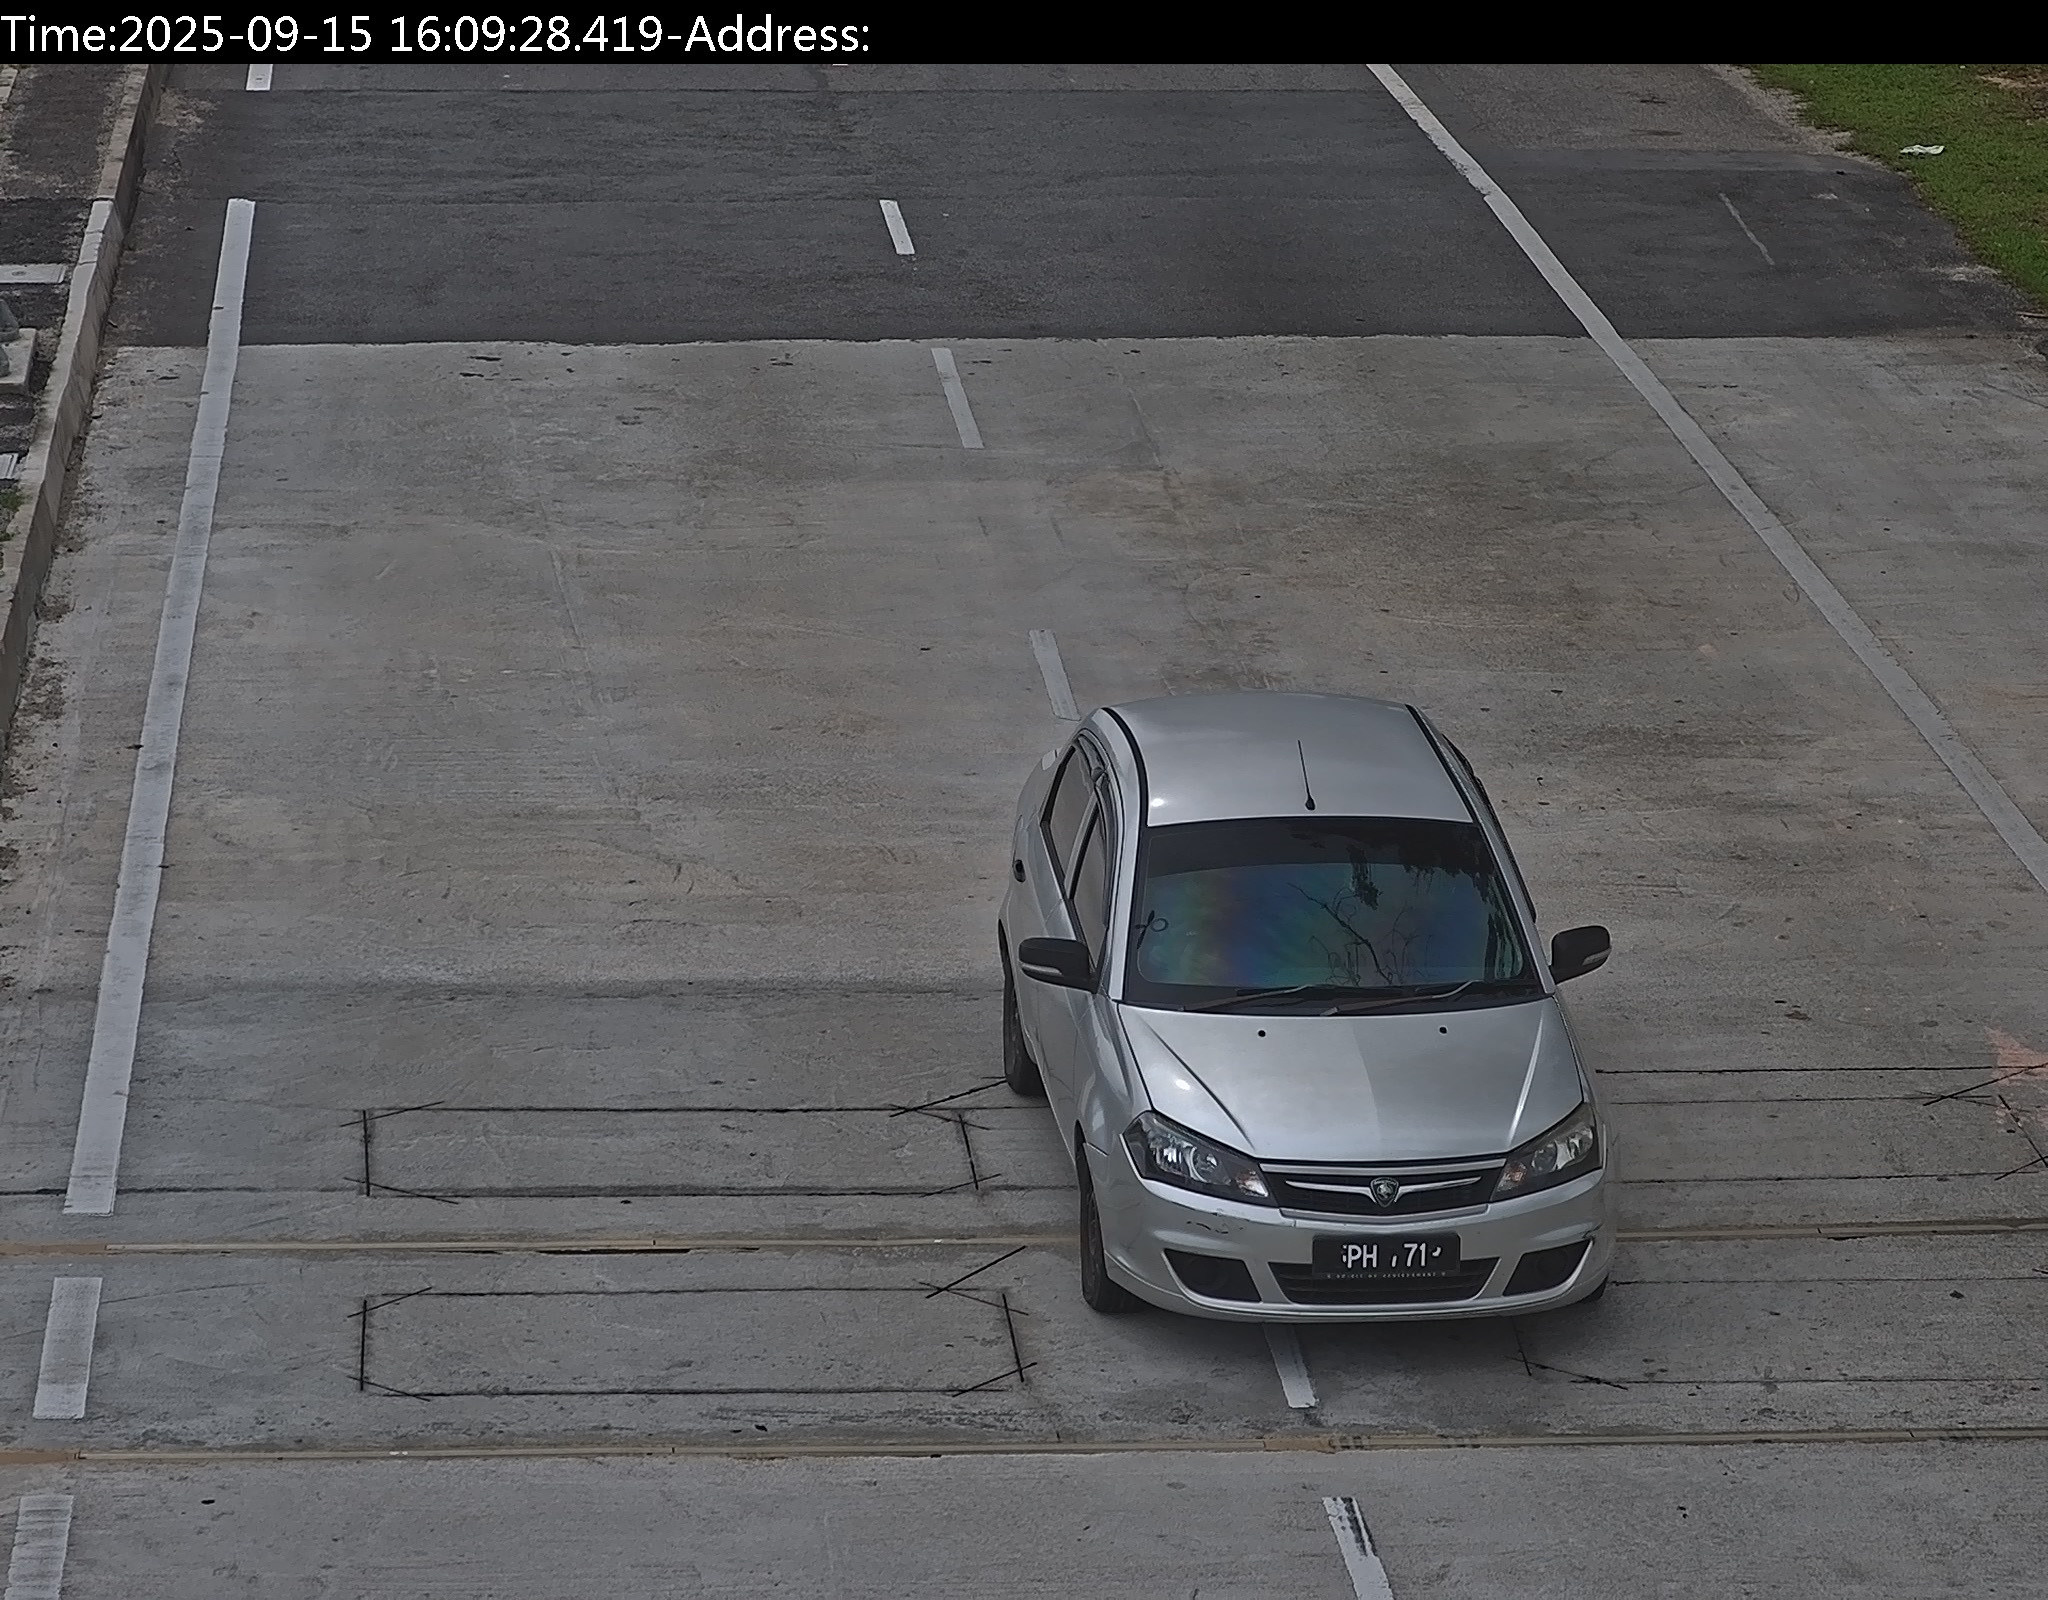class1_lightVehicle: (994, 693, 1623, 1319)
license_plate: (1330, 1237, 1445, 1282)
